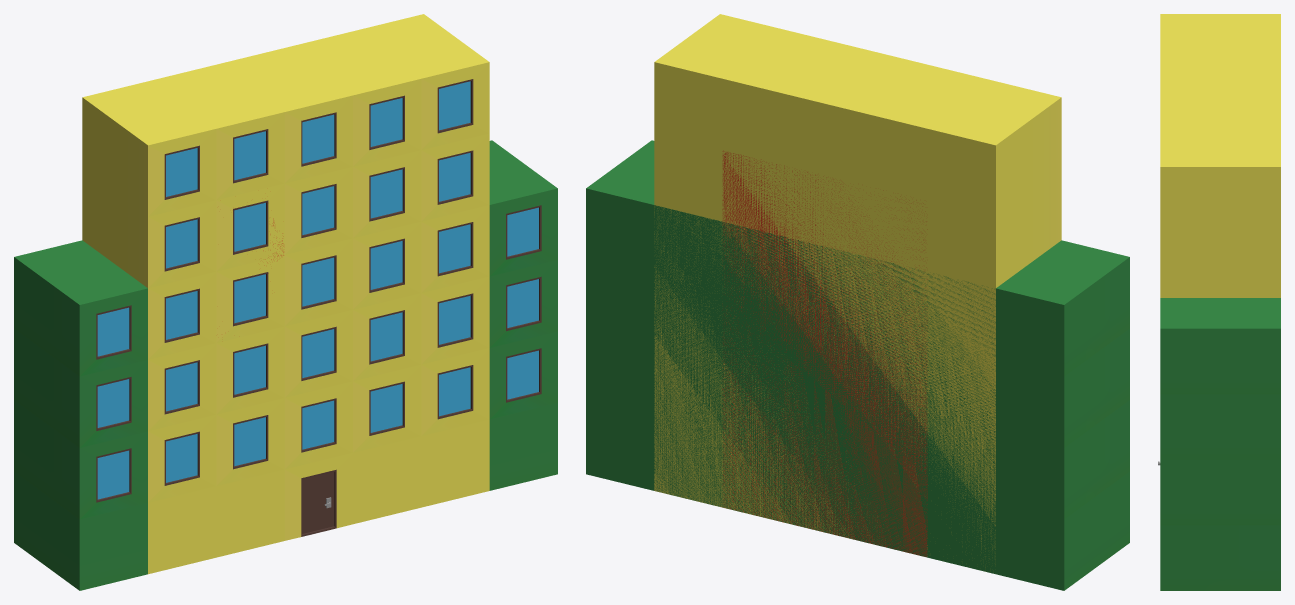
File: Buildings.fbx
3 renders of one model, left to right at view 1: azimuth 30°, elevation 25°; view 2: azimuth 150°, elevation 25°; view 3: azimuth 270°, elevation 25°, orthographic. The views are drawn at different scales.
Parts seen in each view (by area): view 1: BuildingYellow, BuildingThickGreen; view 2: BuildingThickGreen, BuildingYellow, BuildingThinRed; view 3: BuildingThickGreen, BuildingYellow.
Part boxes in pixels (x1,y1,x2,y2): BuildingYellow: (82, 14, 489, 574); BuildingThickGreen: (14, 140, 557, 590); BuildingThickGreen: (586, 140, 1129, 590); BuildingYellow: (654, 14, 1061, 571); BuildingThinRed: (722, 150, 927, 556); BuildingThickGreen: (1160, 298, 1280, 590); BuildingYellow: (1158, 14, 1280, 465).
Bounding box in the file's own units: 2100 × 1800 × 509.
